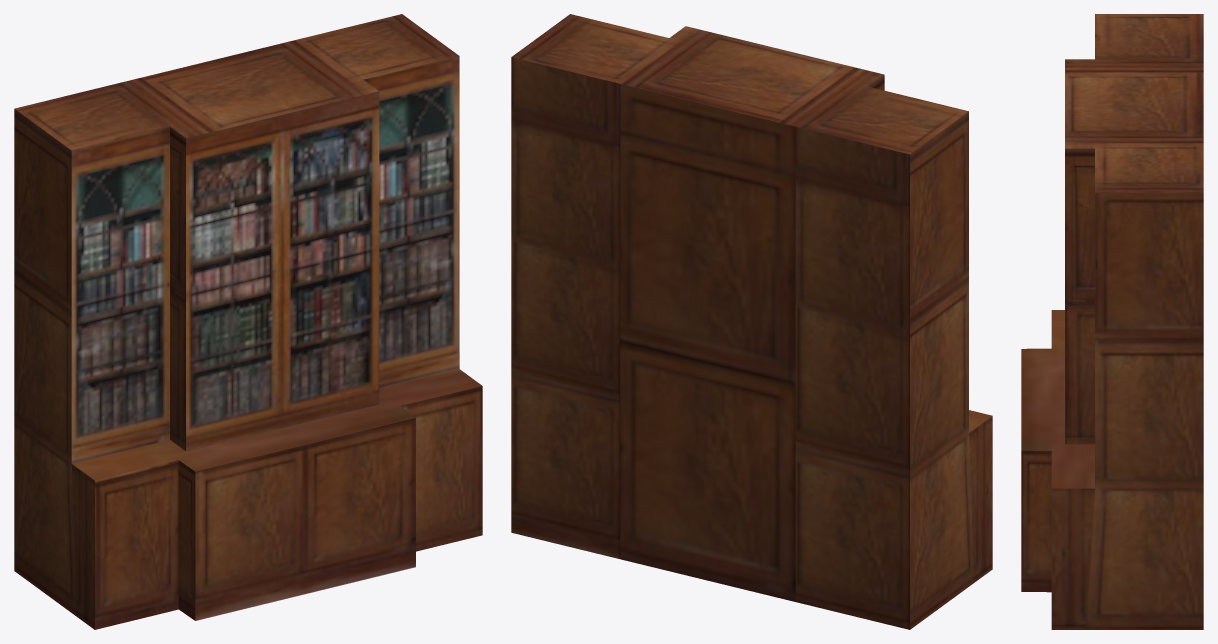
File: Bookcase_02-col.glb
The picture shows the model from 3 angles, left to right: view 1: azimuth 30°, elevation 25°; view 2: azimuth 150°, elevation 25°; view 3: azimuth 270°, elevation 25°; orthographic projection. The views are drawn at different scales.
Visible parts, largest first — view 1: Bookcase_02-col; view 2: Bookcase_02-col; view 3: Bookcase_02-col.
Part boxes in pixels (<box>): Bookcase_02-col: <box>14,14,482,629</box>; Bookcase_02-col: <box>511,14,992,629</box>; Bookcase_02-col: <box>1021,14,1203,629</box>.
Size of the model in its own units: 1.66 by 1.89 by 0.7168.
1 material, 1 textured.
